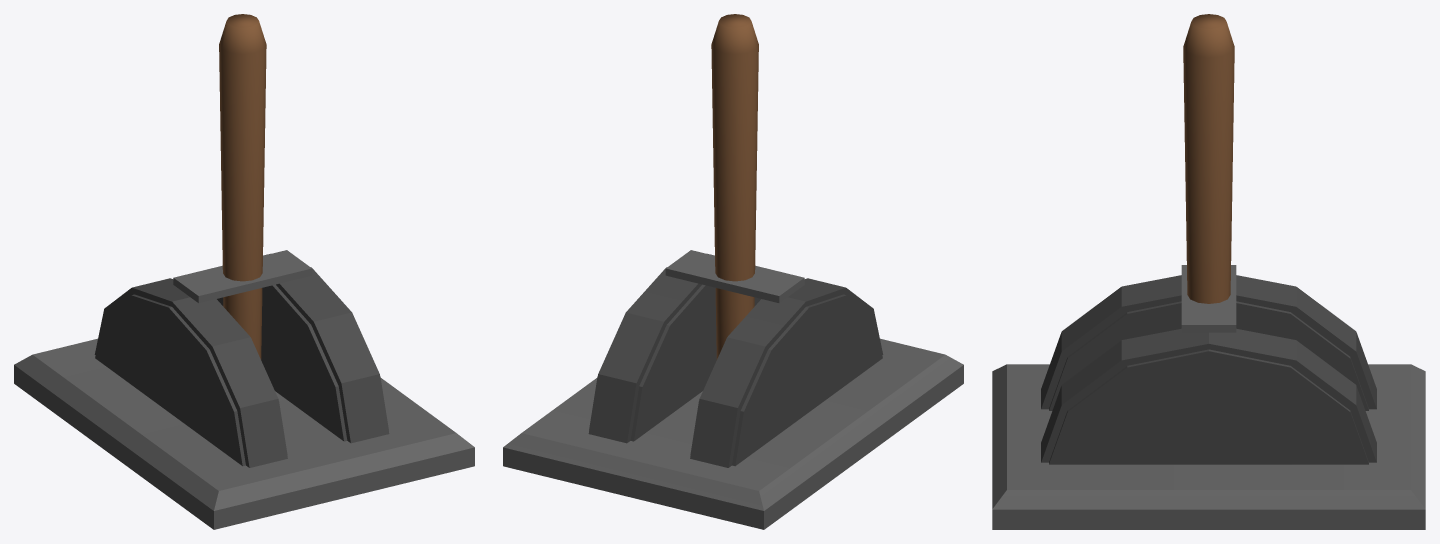
The model's file is Big_Control_Stick.fbx.
The picture shows the model from 3 angles, left to right: view 1: azimuth 30°, elevation 25°; view 2: azimuth 150°, elevation 25°; view 3: azimuth 270°, elevation 25°; orthographic projection. The views are drawn at different scales.
Parts seen in each view (by area): view 1: Big_Control_Stick, Big_Control_Stick.001; view 2: Big_Control_Stick, Big_Control_Stick.001; view 3: Big_Control_Stick, Big_Control_Stick.001.
Boxes of the visible parts, x1,y1,x2,y2 form: Big_Control_Stick: (14, 253, 474, 529); Big_Control_Stick.001: (173, 14, 312, 359); Big_Control_Stick: (503, 253, 963, 529); Big_Control_Stick.001: (665, 14, 804, 359); Big_Control_Stick: (992, 275, 1425, 529); Big_Control_Stick.001: (1181, 14, 1236, 332).
Size of the model in its own units: 29.4 by 43.53 by 38.99.
Materials: 1 (1 with a texture image).
